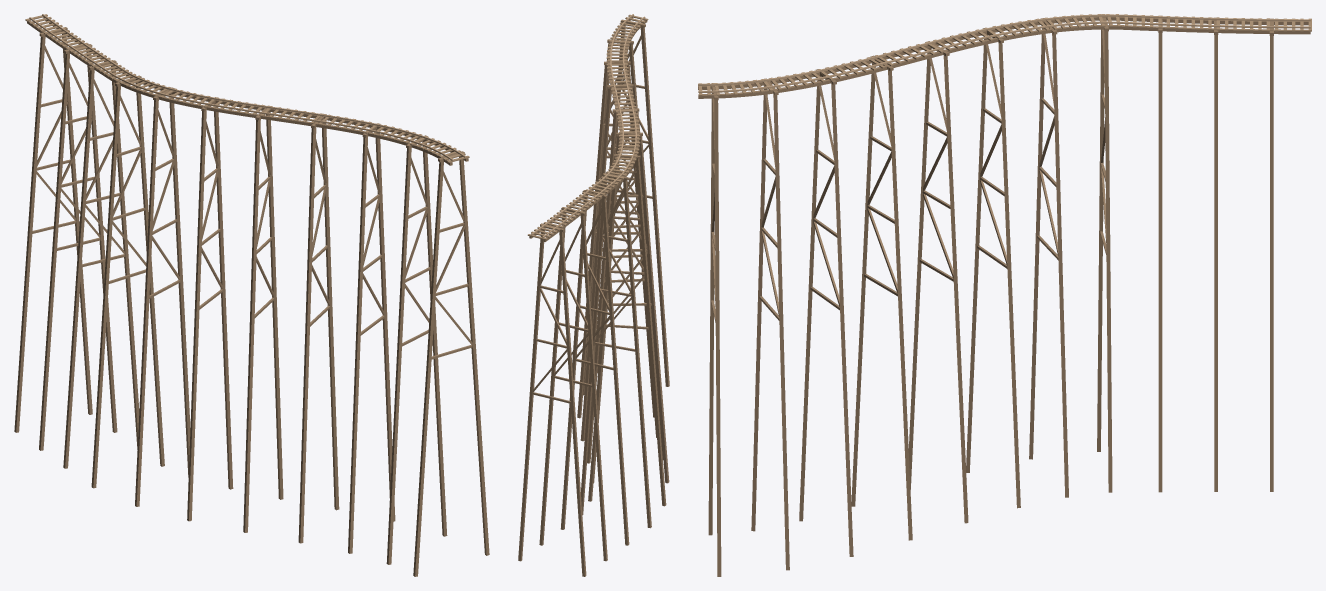
Rendered from MinecartMayhemRailBendL.glb.
3 renders of one model, left to right at view 1: azimuth 30°, elevation 25°; view 2: azimuth 150°, elevation 25°; view 3: azimuth 270°, elevation 25°, orthographic. The views are drawn at different scales.
Parts seen in each view (by area): view 1: Trestle, Ties, Rails; view 2: Trestle, Ties, Rails; view 3: Trestle, Rails, Ties.
Boxes of the visible parts, x1,y1,x2,y2 form: Trestle: (14, 17, 489, 576); Ties: (25, 14, 469, 162); Rails: (29, 14, 466, 161); Trestle: (518, 17, 669, 576); Ties: (527, 14, 648, 239); Rails: (531, 14, 645, 237); Trestle: (698, 14, 1310, 576); Rails: (698, 14, 1310, 92); Ties: (698, 14, 1311, 96).
Bounding box in the file's own units: 54.16 × 92.78 × 110.
